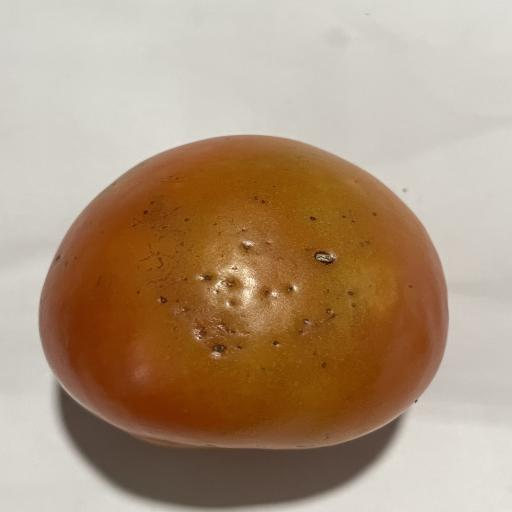unripe: (40, 135, 447, 449)
